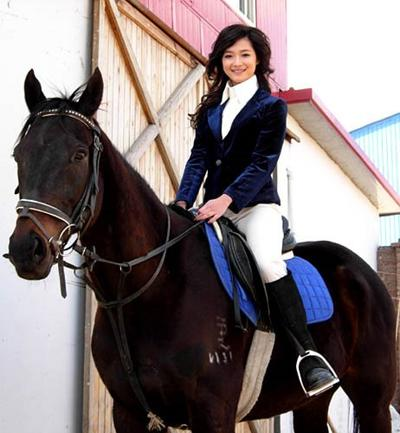person: (175, 23, 338, 395)
